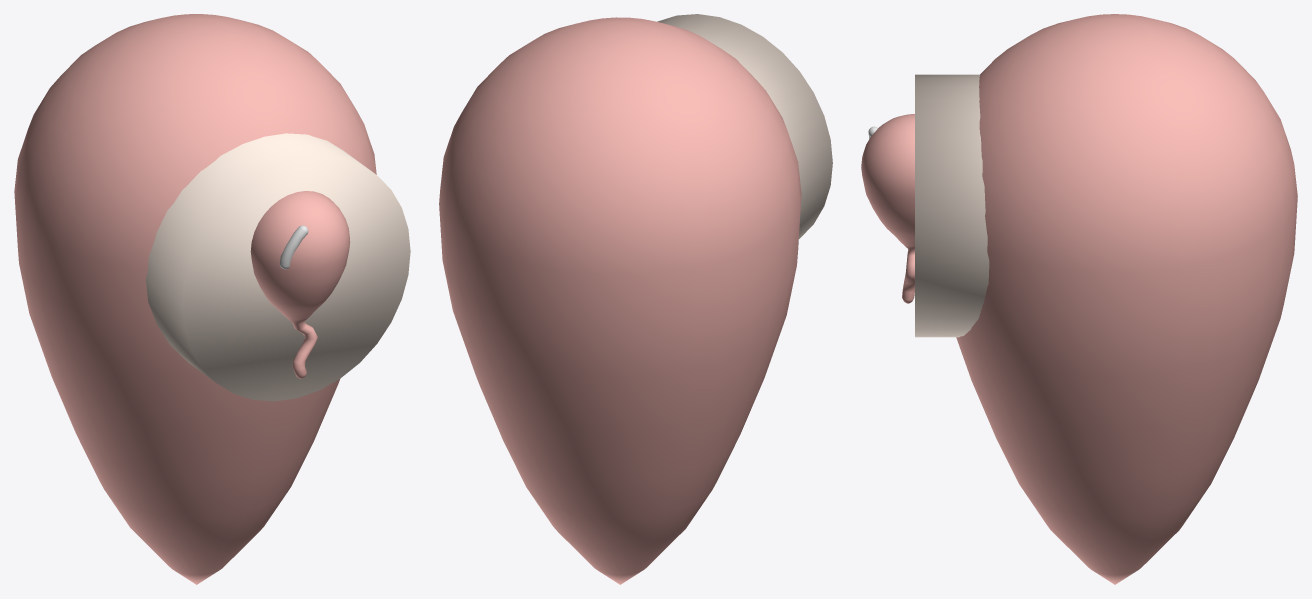
Rendered from eventPin.glb.
3 renders of one model, left to right at view 1: azimuth 30°, elevation 25°; view 2: azimuth 150°, elevation 25°; view 3: azimuth 270°, elevation 25°, orthographic.
Parts seen in each view (by area): view 1: pin.004, Cylinder.004, balloon, Sphere.038; view 2: pin.004, Cylinder.004; view 3: pin.004, Cylinder.004, balloon.
Boxes of the visible parts, x1,y1,x2,y2 form: pin.004: (14,14,376,584); Cylinder.004: (145,133,410,401); balloon: (250,191,350,378); Sphere.038: (279,225,308,269); pin.004: (439,17,801,584); Cylinder.004: (657,14,832,238); pin.004: (956,14,1297,584); Cylinder.004: (915,74,989,337); balloon: (861,114,914,303).
Size of the model in its own units: 0.2435 by 0.4072 by 0.2909.
